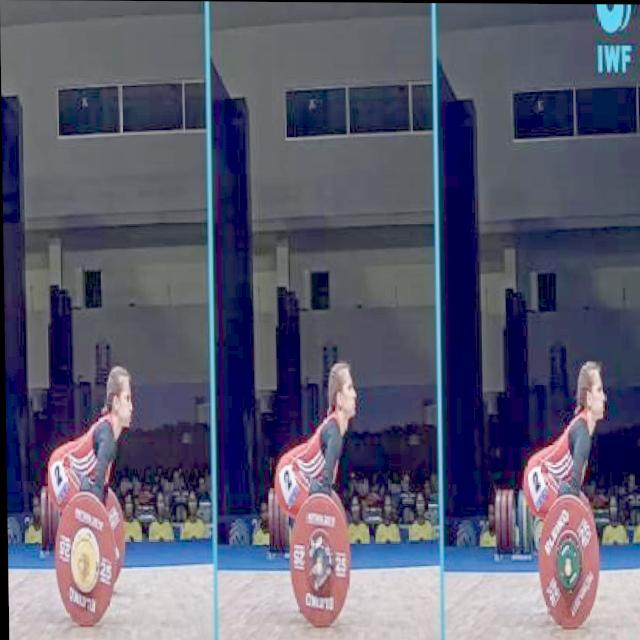barbell: (532, 492, 604, 631), (288, 487, 354, 632), (51, 489, 114, 629)
